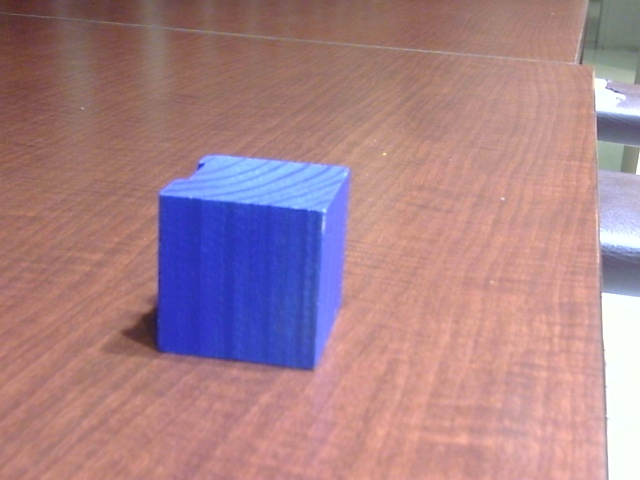BlueBlock: (156, 154, 350, 368)
